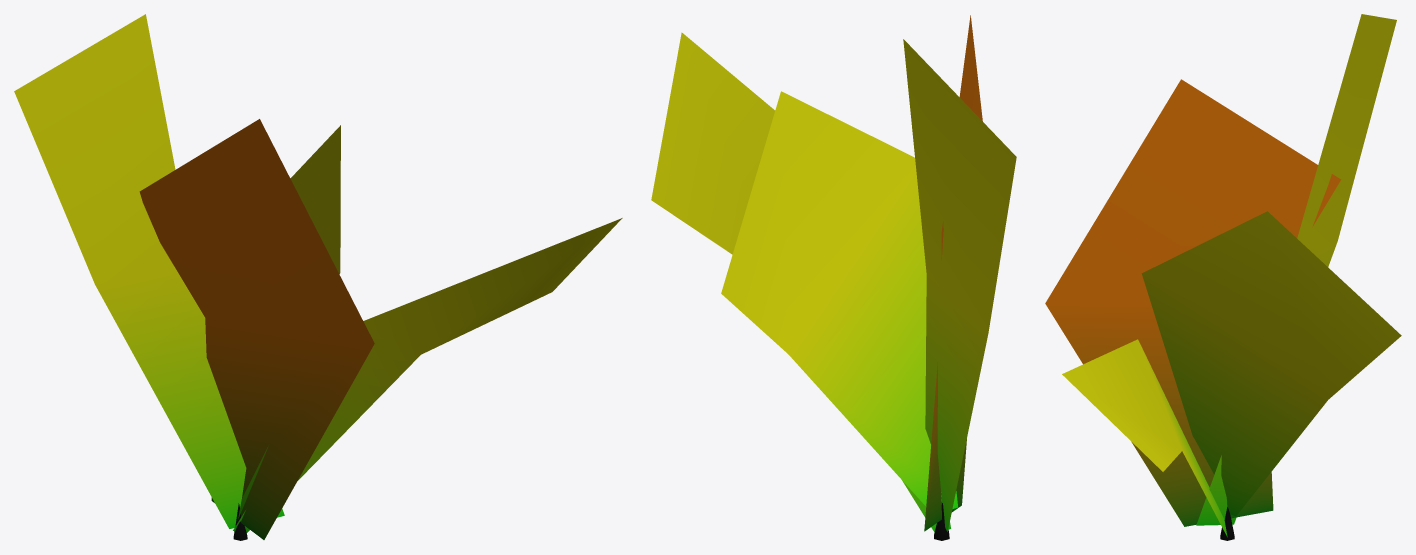
File: Var4_LOD2.fbx
3 views of the same model, side by side, from view 1: azimuth 30°, elevation 25°; view 2: azimuth 150°, elevation 25°; view 3: azimuth 270°, elevation 25° (orthographic). The views are drawn at different scales.
Visible parts, largest first — view 1: _85cf_Var4_LOD2; view 2: _85cf_Var4_LOD2; view 3: _85cf_Var4_LOD2.
Boxes of the visible parts, x1,y1,x2,y2 form: _85cf_Var4_LOD2: [14, 14, 622, 540]; _85cf_Var4_LOD2: [651, 15, 1016, 540]; _85cf_Var4_LOD2: [1045, 14, 1401, 540].
Size of the model in its own units: 28.41 by 29.3 by 18.65.
